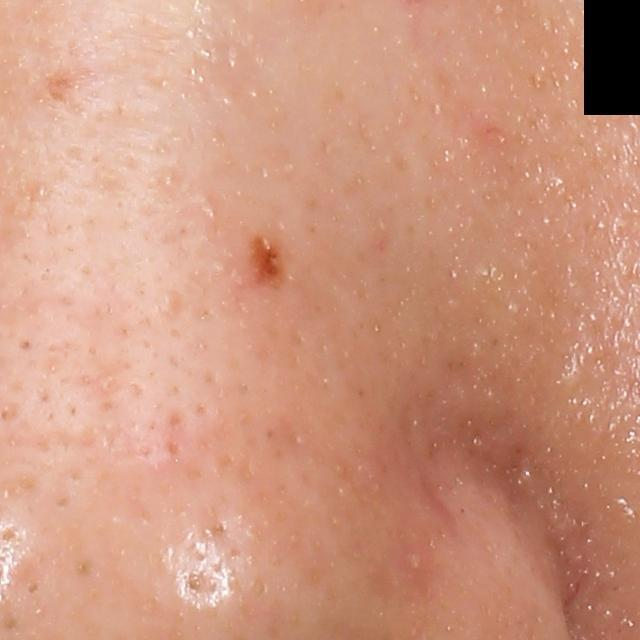comedo: (155, 288, 181, 320)
nevus: (246, 229, 288, 294)
